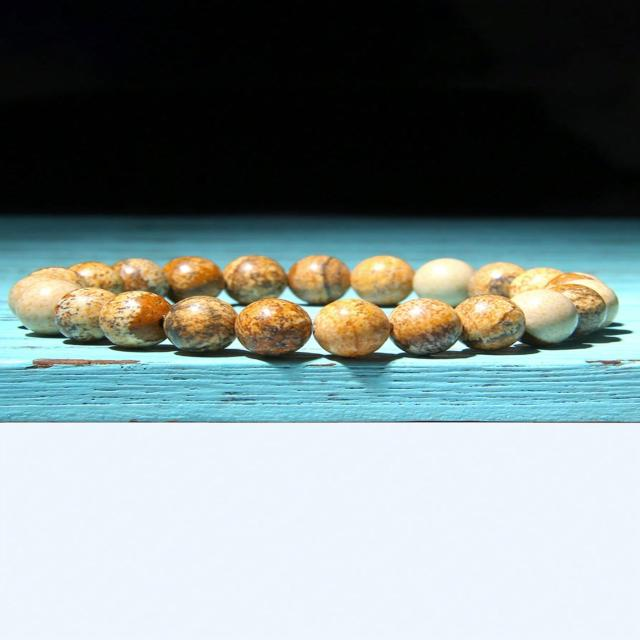bracelet: (3, 164, 640, 458)
